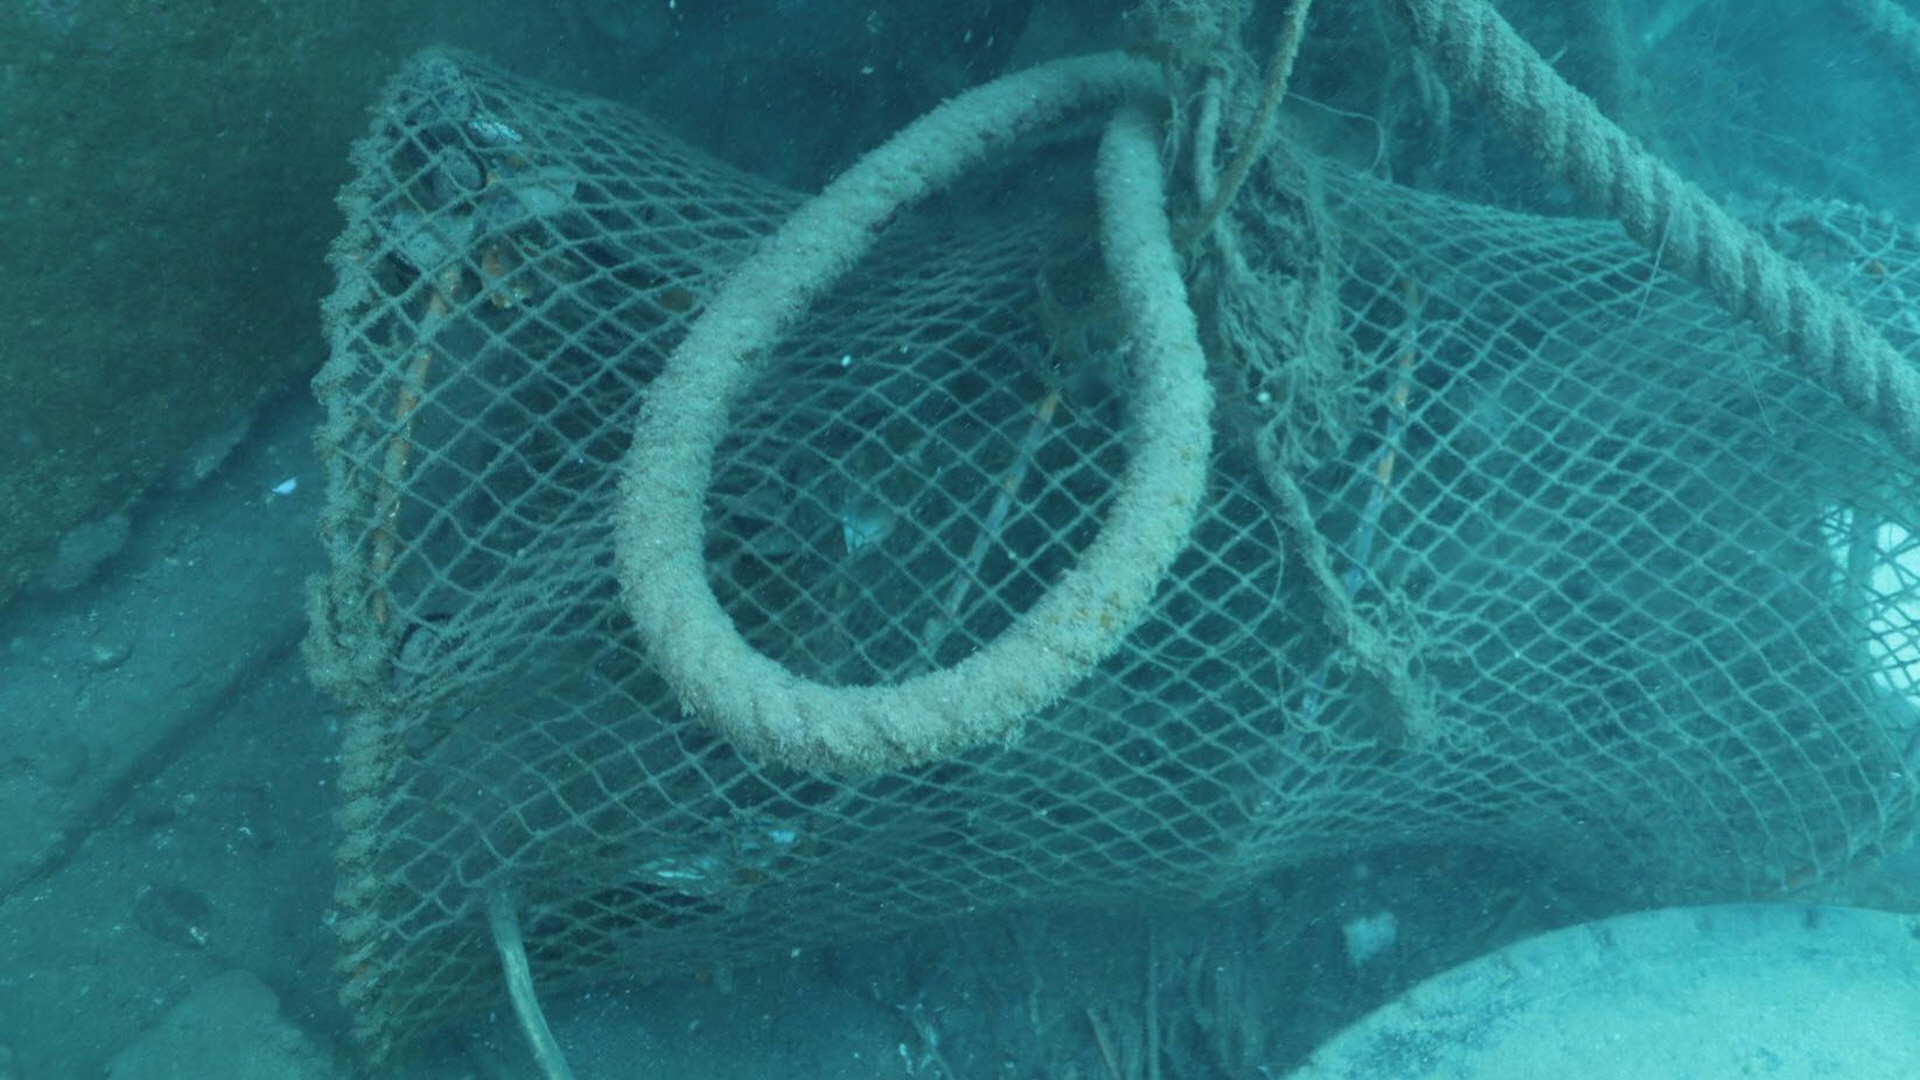rope: (607, 47, 1213, 778), (1383, 0, 1920, 458)
spring fish trap: (307, 40, 1920, 1080)
